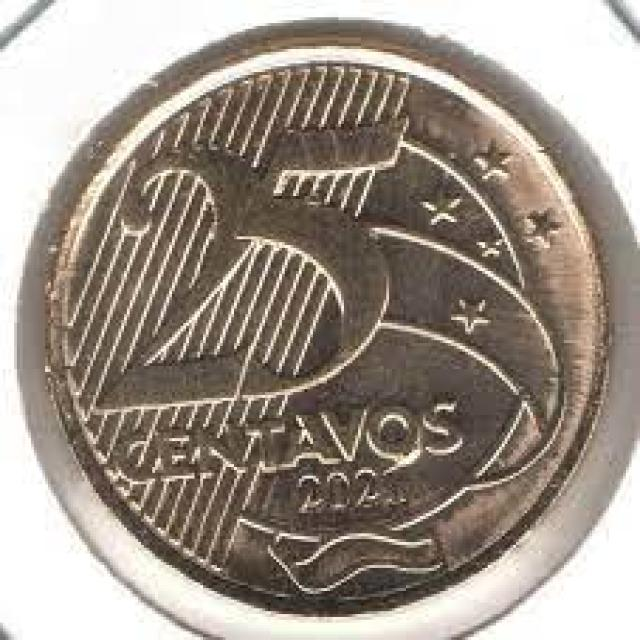25 cent: (68, 44, 598, 584)
